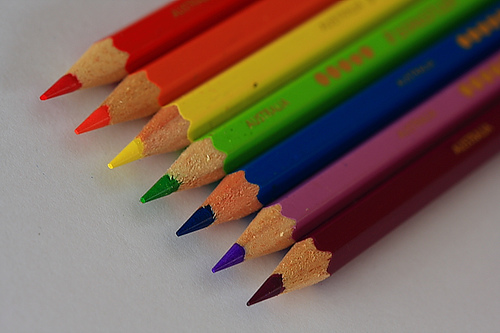pen_tip: (245, 233, 345, 313), (208, 201, 305, 281), (69, 67, 168, 139), (103, 101, 194, 179), (31, 33, 128, 105), (173, 168, 260, 246), (137, 130, 223, 208)
